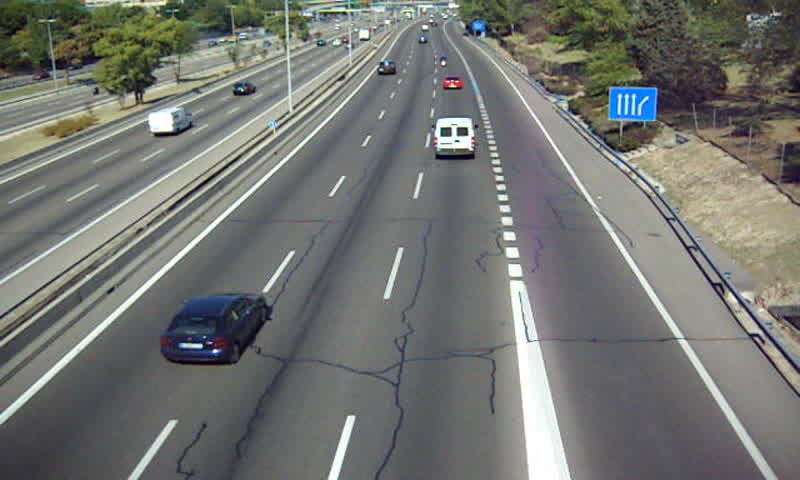car: (162, 292, 268, 364), (443, 75, 464, 92), (376, 60, 396, 77)
motorcycle: (437, 55, 449, 66)
van: (434, 118, 474, 158)
